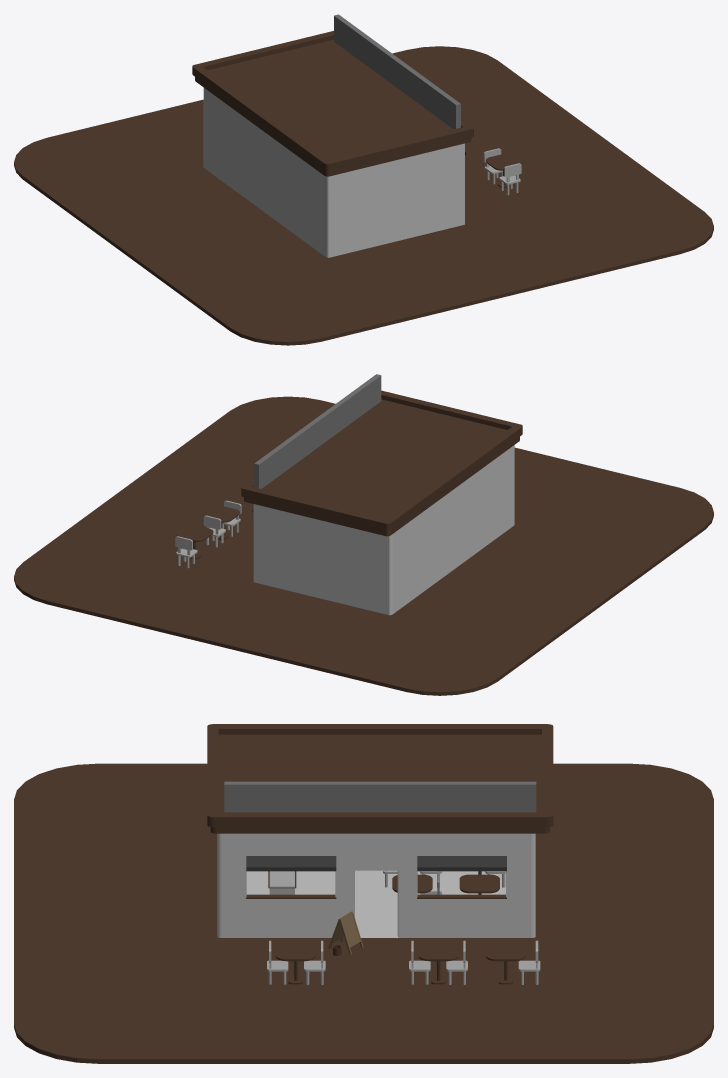
File: cafeespecialidadunity1.fbx
3 views of the same model, one above another, from view 1: azimuth 30°, elevation 25°; view 2: azimuth 150°, elevation 25°; view 3: azimuth 270°, elevation 25° (orthographic). The views are drawn at different scales.
Visible parts, largest first — view 1: Cube.010; view 2: Cube.010; view 3: Cube.010.
Boxes of the visible parts, left/top/right/bottom form: Cube.010: left=14, top=14, right=713, bottom=345; Cube.010: left=14, top=374, right=713, bottom=695; Cube.010: left=14, top=724, right=713, bottom=1063.
Size of the model in its own units: 1602 by 398 by 1602.
